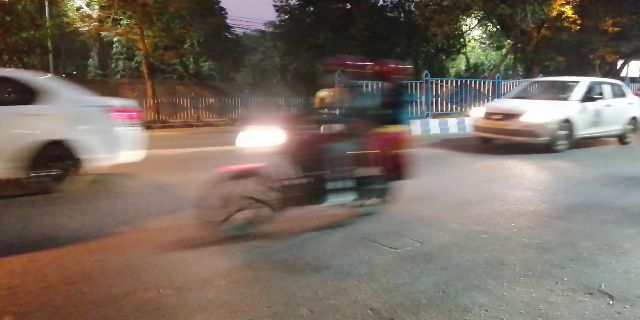Car: (9, 66, 159, 196), (466, 68, 637, 157)
Motorbike: (196, 52, 420, 243)
